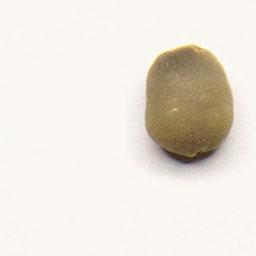peaberry: (141, 41, 236, 163)
